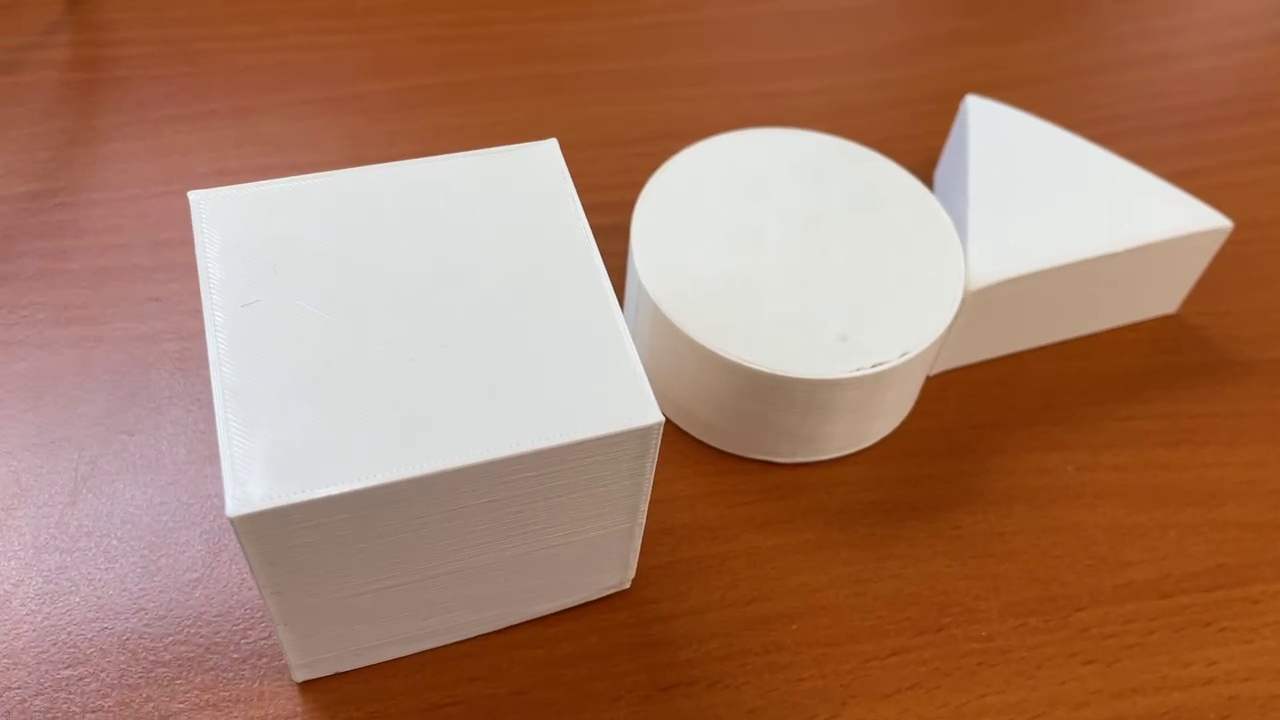Cube: (177, 135, 665, 690)
Cylinder_short: (628, 124, 965, 465)
Triangle_short: (926, 95, 1237, 380)
